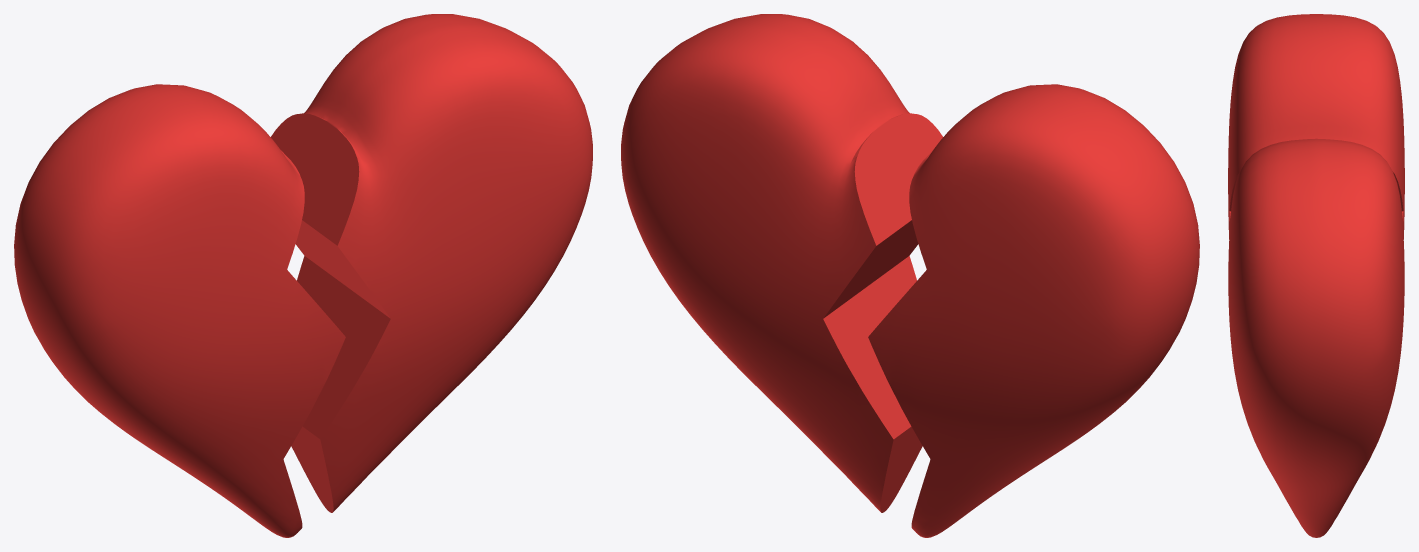
The model's file is broken_heart.glb.
3 views of the same model, side by side, from view 1: azimuth 30°, elevation 25°; view 2: azimuth 150°, elevation 25°; view 3: azimuth 270°, elevation 25° (orthographic). The views are drawn at different scales.
Visible parts, largest first — view 1: hfdjkslfjkds.015; view 2: hfdjkslfjkds.015; view 3: hfdjkslfjkds.015.
Boxes of the visible parts, x1=… form: hfdjkslfjkds.015: x1=14, y1=14, x2=592, y2=537; hfdjkslfjkds.015: x1=621, y1=14, x2=1199, y2=537; hfdjkslfjkds.015: x1=1228, y1=14, x2=1404, y2=537.
Bounding box in the file's own units: 2.05 × 1.68 × 0.5958.
Materials: 1 (1 with a texture image).
